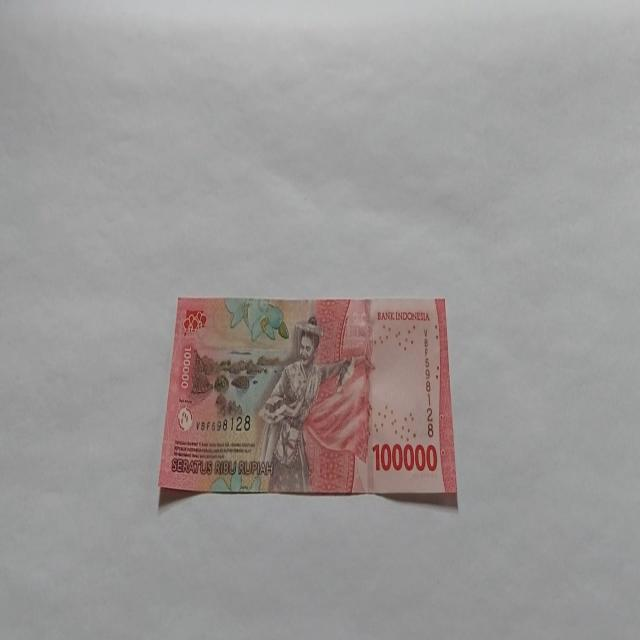seratus ribu rupiah: (158, 295, 458, 505), (253, 314, 354, 492)
